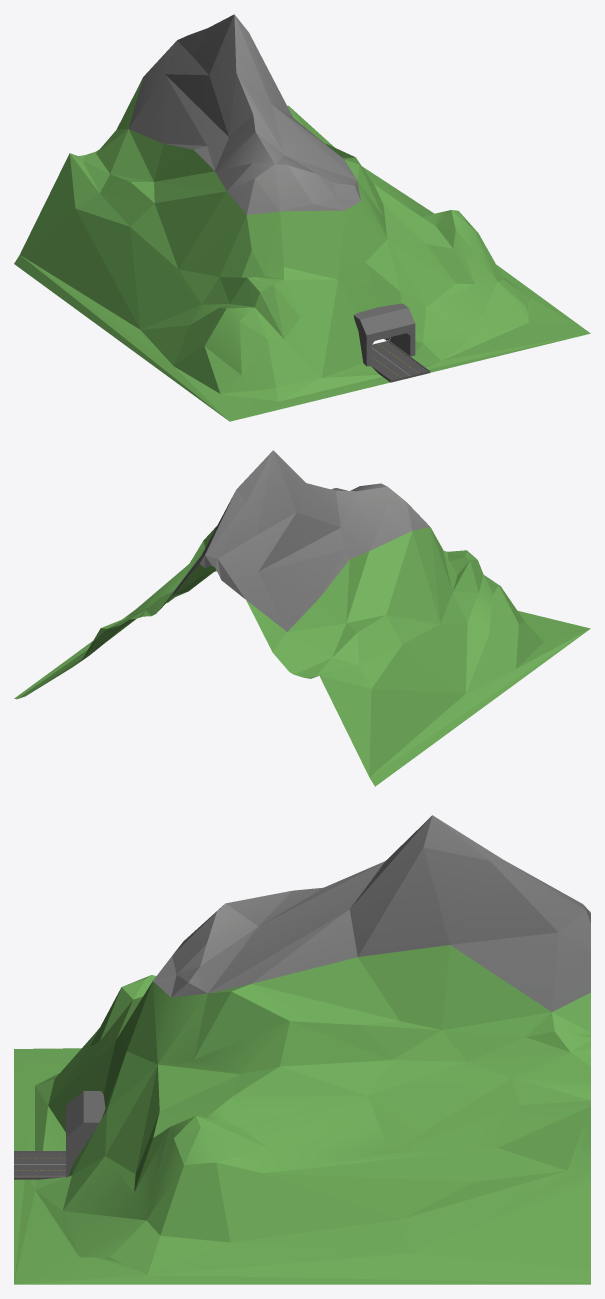
Rendered from SM_Floor_Road_27.fbx.
3 views of the same model, one above another, from view 1: azimuth 30°, elevation 25°; view 2: azimuth 150°, elevation 25°; view 3: azimuth 270°, elevation 25° (orthographic). The views are drawn at different scales.
Visible parts, largest first — view 1: SM_Floor_Road_27; view 2: SM_Floor_Road_27; view 3: SM_Floor_Road_27.
Boxes of the visible parts, x1,y1,x2,y2 form: SM_Floor_Road_27: (14,14,590,421); SM_Floor_Road_27: (14,450,590,786); SM_Floor_Road_27: (14,815,590,1284).
Bounding box in the file's own units: 100 × 67.15 × 104.
